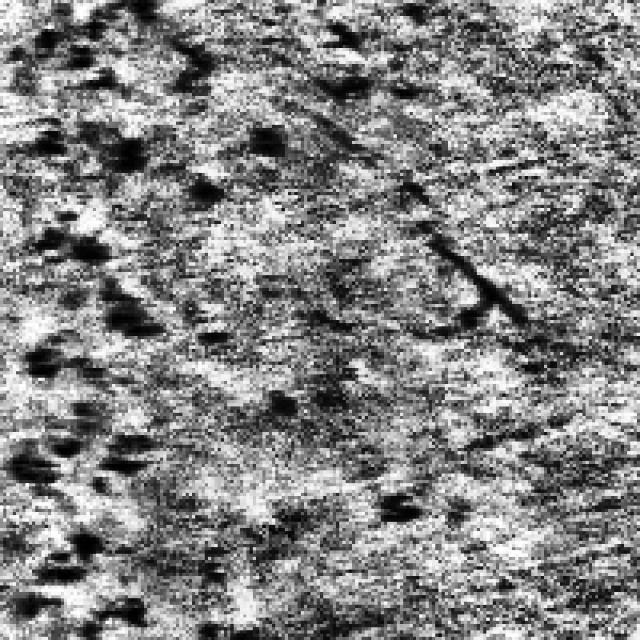Crazing: (3, 0, 170, 627), (154, 15, 416, 198)
